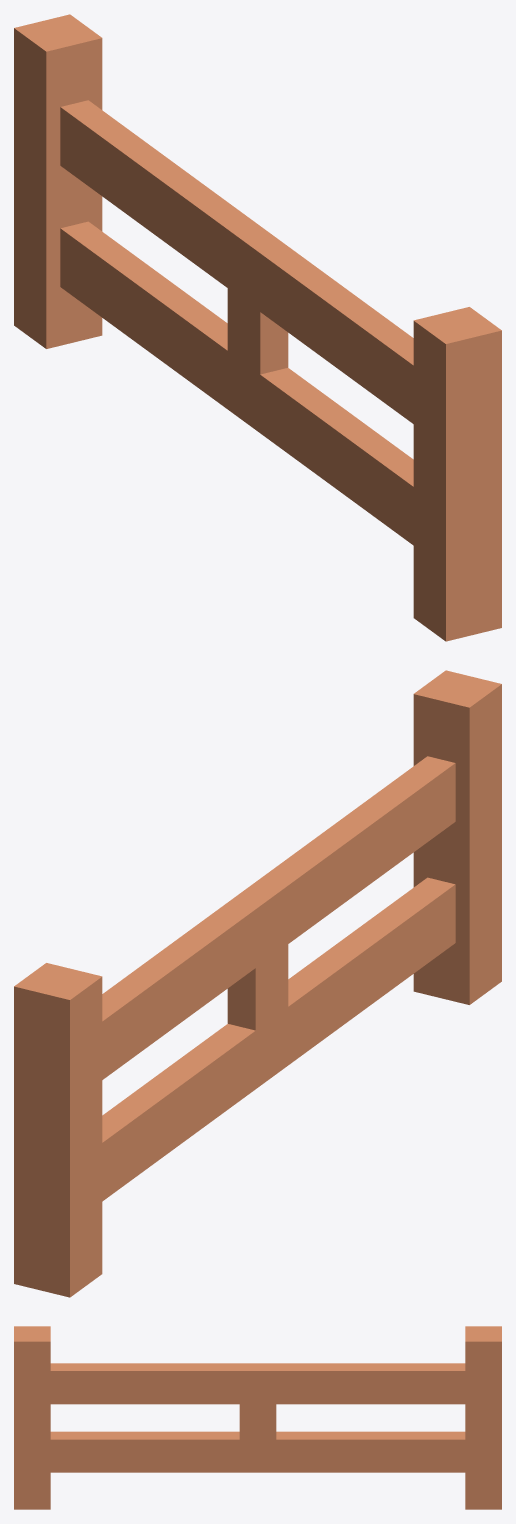
Rendered from fence.fbx.
The picture shows the model from 3 angles, top to bottom: view 1: azimuth 30°, elevation 25°; view 2: azimuth 150°, elevation 25°; view 3: azimuth 270°, elevation 25°; orthographic projection. The views are drawn at different scales.
Parts seen in each view (by area): view 1: fence; view 2: fence; view 3: fence.
Boxes of the visible parts, bbox=[...] form: fence: bbox=[14, 14, 501, 641]; fence: bbox=[14, 670, 501, 1297]; fence: bbox=[14, 1326, 501, 1509].
Size of the model in its own units: 0.75 by 3.8 by 10.
